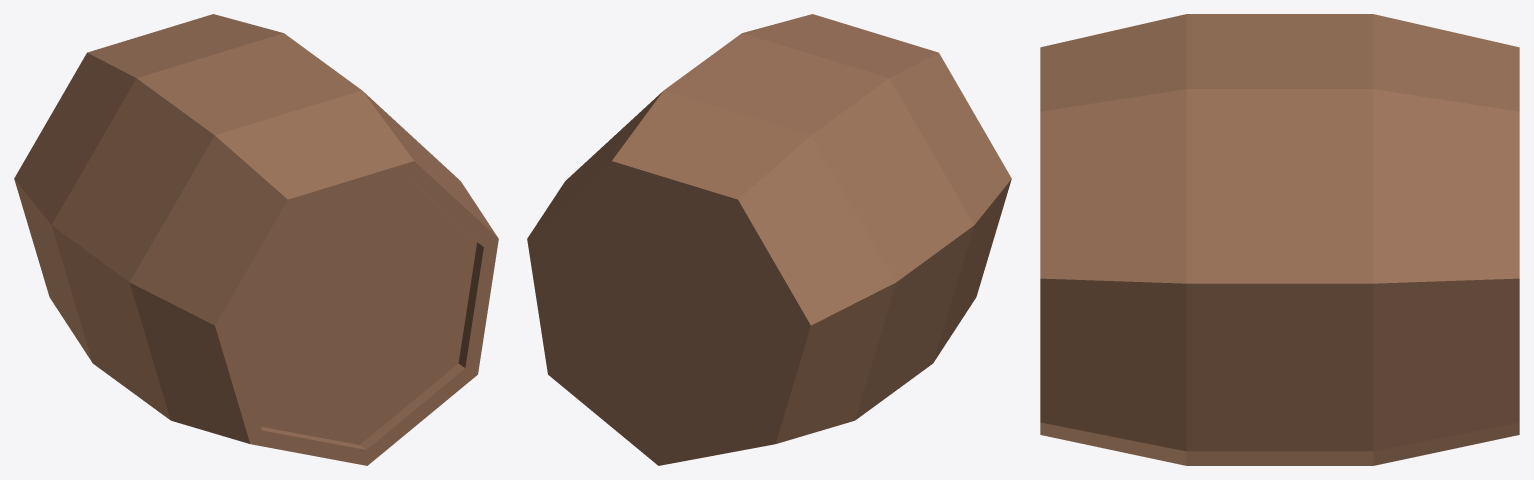
File: Tonneau.fbx
The picture shows the model from 3 angles, left to right: view 1: azimuth 30°, elevation 25°; view 2: azimuth 150°, elevation 25°; view 3: azimuth 270°, elevation 25°; orthographic projection. The views are drawn at different scales.
Visible parts, largest first — view 1: Tonneau; view 2: Tonneau; view 3: Tonneau.
Boxes of the visible parts, x1,y1,x2,y2 form: Tonneau: [14, 14, 498, 465]; Tonneau: [527, 14, 1011, 465]; Tonneau: [1040, 14, 1519, 465].
Bounding box in the file's own units: 144 × 143 × 152.
